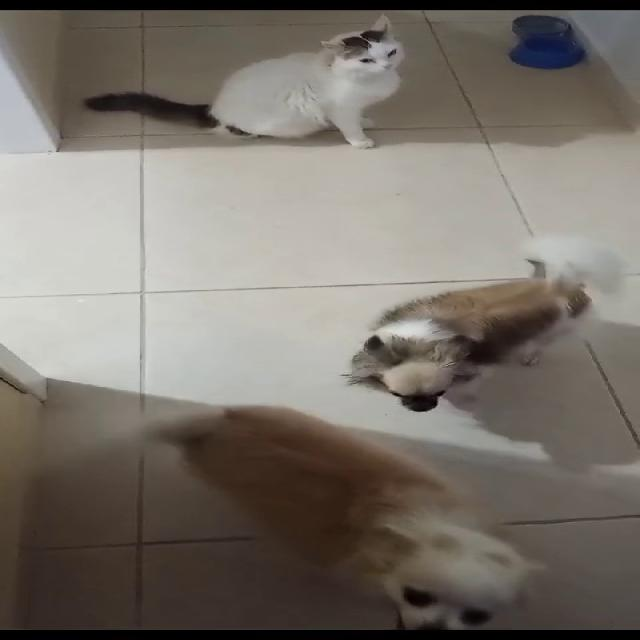Pedrita: (317, 201, 639, 431)
Simba: (158, 22, 504, 181)
Theo: (112, 365, 565, 639)
